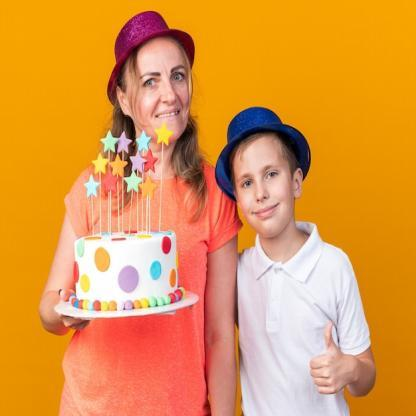thumb_up: (307, 318, 353, 398)
